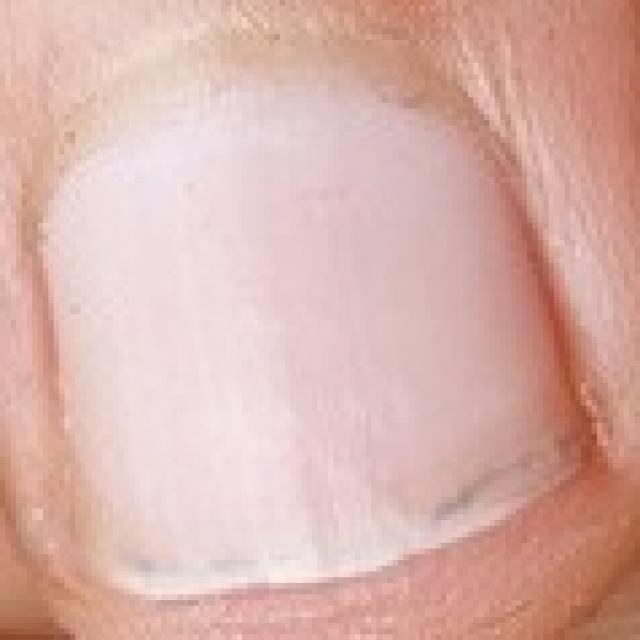Nail: (36, 55, 588, 602)
